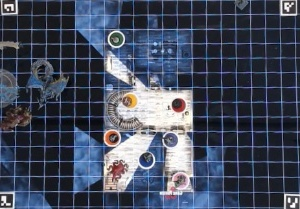blue: (138, 150, 157, 169)
green: (107, 30, 126, 50)
orange: (103, 128, 121, 148)
pink: (171, 170, 192, 189)
red: (170, 97, 189, 116)
violet: (161, 129, 180, 150)
yellow: (118, 91, 140, 108)
